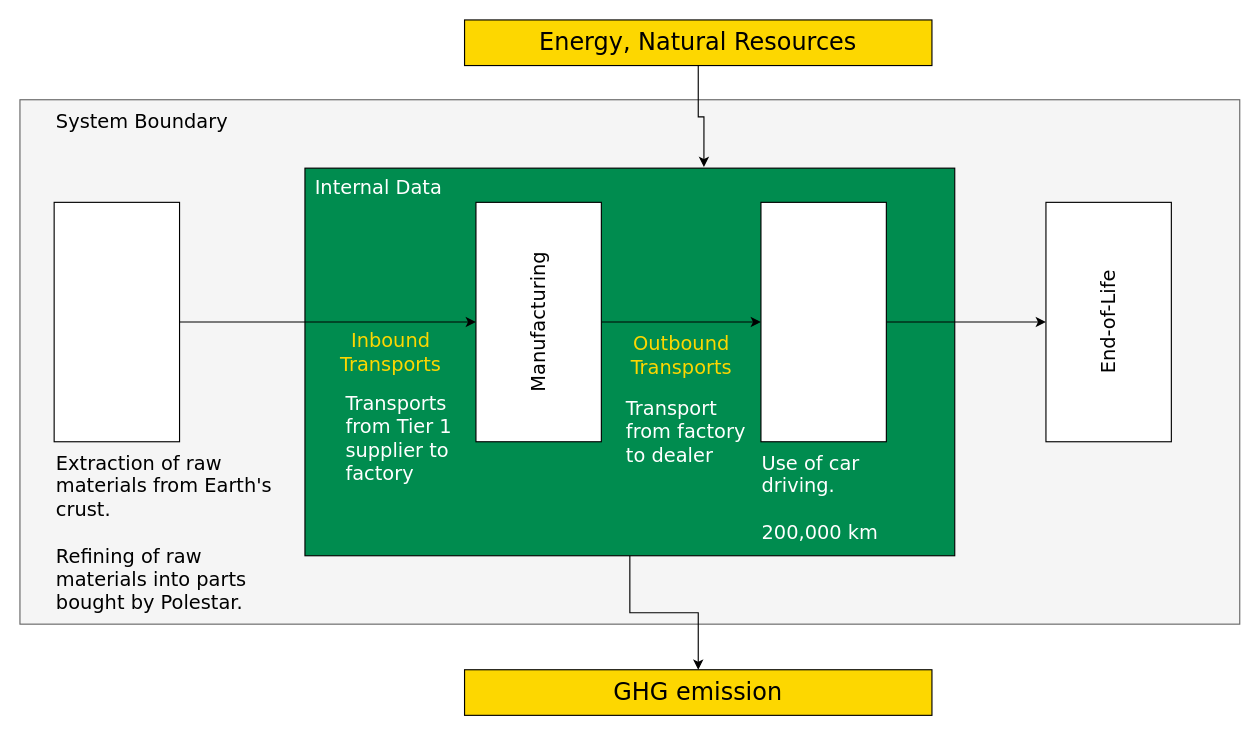
Some shapes in this 1260 by 735 pixel diagram are drawn without their labels. The centre of each missing label's shape, as x and y in pixels:
"Materials production and refining" goes at (116,321).
"Use Phase" goes at (823,321).
